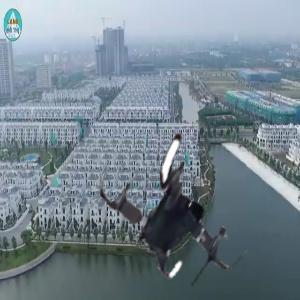drone: (93, 116, 271, 294)
